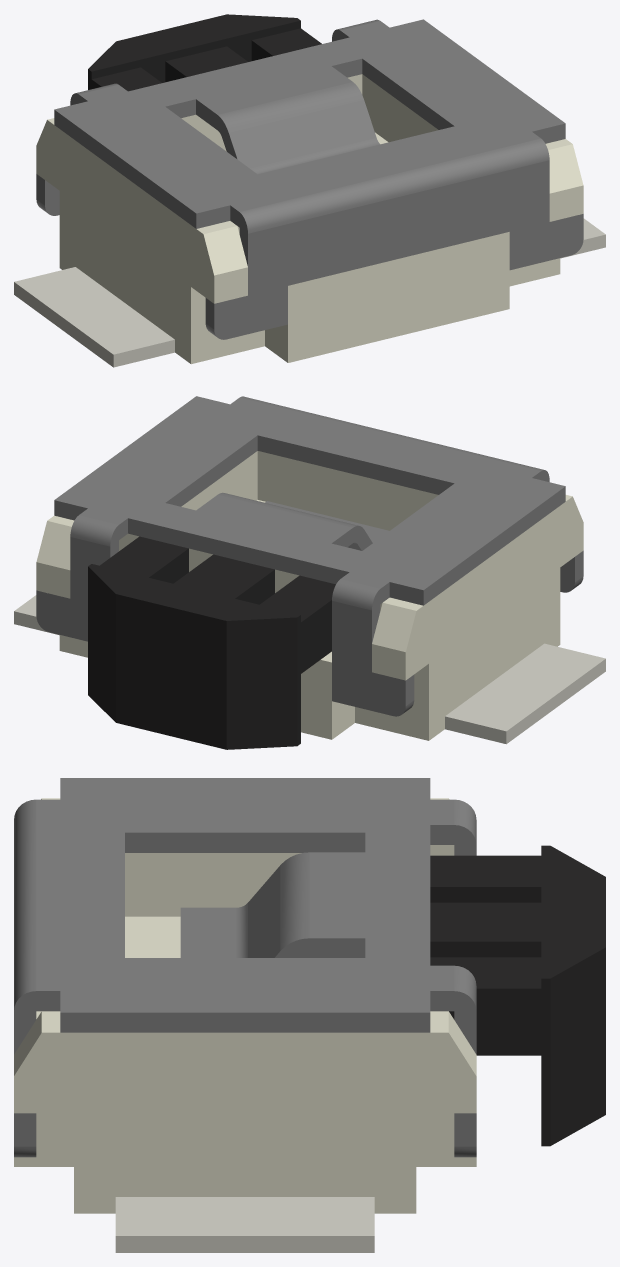
The model's file is kc-sw_spst_b3u-3000p.glb.
3 renders of one model, top to bottom at view 1: azimuth 30°, elevation 25°; view 2: azimuth 150°, elevation 25°; view 3: azimuth 270°, elevation 25°, orthographic. The views are drawn at different scales.
Parts seen in each view (by area): view 1: 0.25_0.25_0.25_0, 0.75_0.75_0.6666666666666666_0, 0_0_0_0, 0.6666666666666666_0.6666666666666666_0.5833333333333334_0.8; view 2: 0.25_0.25_0.25_0, 0_0_0_0, 0.75_0.75_0.6666666666666666_0, 0.6666666666666666_0.6666666666666666_0.5833333333333334_0.8; view 3: 0.25_0.25_0.25_0, 0.75_0.75_0.6666666666666666_0, 0_0_0_0, 0.6666666666666666_0.6666666666666666_0.5833333333333334_0.8.
Boxes of the visible parts, <box> form: 0.25_0.25_0.25_0: <box>36,19,583,339</box>; 0.75_0.75_0.6666666666666666_0: <box>36,74,583,364</box>; 0_0_0_0: <box>88,14,321,91</box>; 0.6666666666666666_0.6666666666666666_0.5833333333333334_0.8: <box>14,218,605,367</box>; 0.25_0.25_0.25_0: <box>36,396,583,716</box>; 0_0_0_0: <box>88,536,335,749</box>; 0.75_0.75_0.6666666666666666_0: <box>36,451,583,740</box>; 0.6666666666666666_0.6666666666666666_0.5833333333333334_0.8: <box>14,595,605,744</box>; 0.25_0.25_0.25_0: <box>14,778,476,1157</box>; 0.75_0.75_0.6666666666666666_0: <box>14,798,476,1213</box>; 0_0_0_0: <box>430,845,605,1146</box>; 0.6666666666666666_0.6666666666666666_0.5833333333333334_0.8: <box>115,1197,374,1252</box>.
Bounding box in the file's own units: 0.4 × 0.12 × 0.32.
